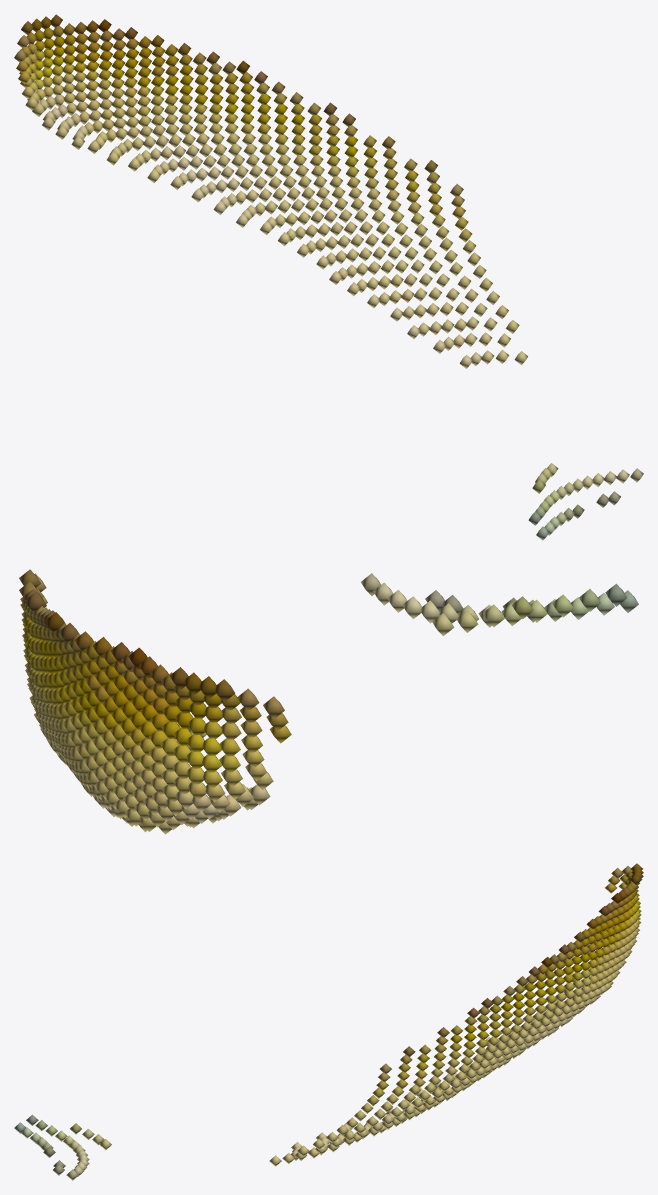
File: banana-vggt-sam.glb
The picture shows the model from 3 angles, top to bottom: view 1: azimuth 30°, elevation 25°; view 2: azimuth 150°, elevation 25°; view 3: azimuth 270°, elevation 25°; orthographic projection. The views are drawn at different scales.
Size of the model in its own units: 0.4037 by 0.345 by 0.8808.
